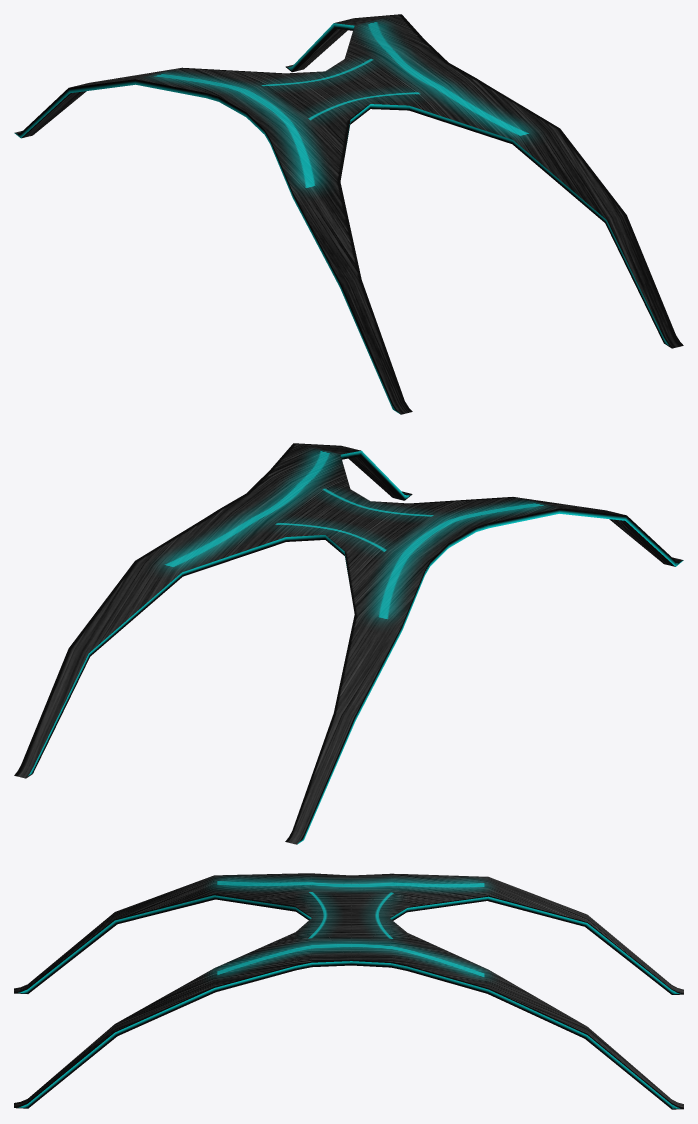
File: Extra_2.FBX
3 renders of one model, top to bottom at view 1: azimuth 30°, elevation 25°; view 2: azimuth 150°, elevation 25°; view 3: azimuth 270°, elevation 25°, orthographic. The views are drawn at different scales.
Visible parts, largest first — view 1: Line020; view 2: Line020; view 3: Line020.
Part boxes in pixels (x1,y1,x2,y2): Line020: (14, 14, 683, 414); Line020: (14, 443, 683, 844); Line020: (14, 873, 683, 1109).
Bounding box in the file's own units: 18.06 × 9.21 × 42.43.
